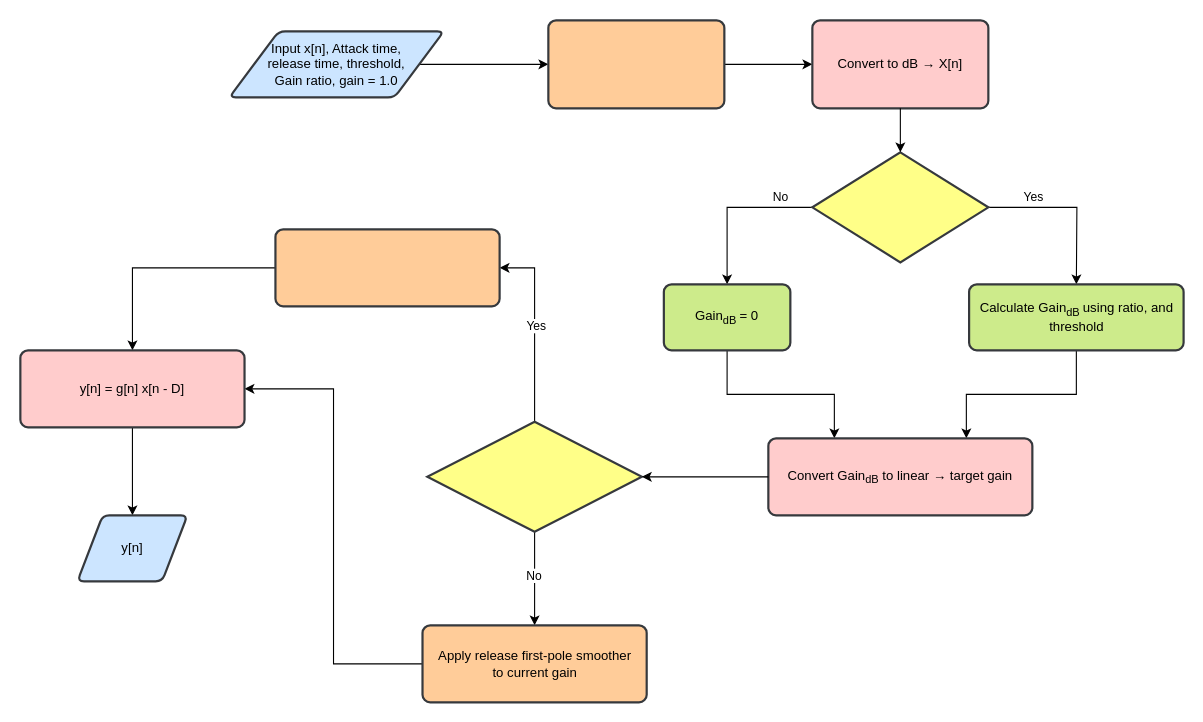
Image size: 1203x722. Some labels were removed from this diagram. The shapes that lost their labels are listed below. From the top down, each one's centre as x and y in pixels, then its label:
At point 636,64: "RMS Smoother / Envelope Detector = r[n]".
At point 900,207: "X[n] > threshold?".
At point 387,267: "Apply attack first-pole smoother to current gain".
At point 534,476: "Target gain < current gain?".
